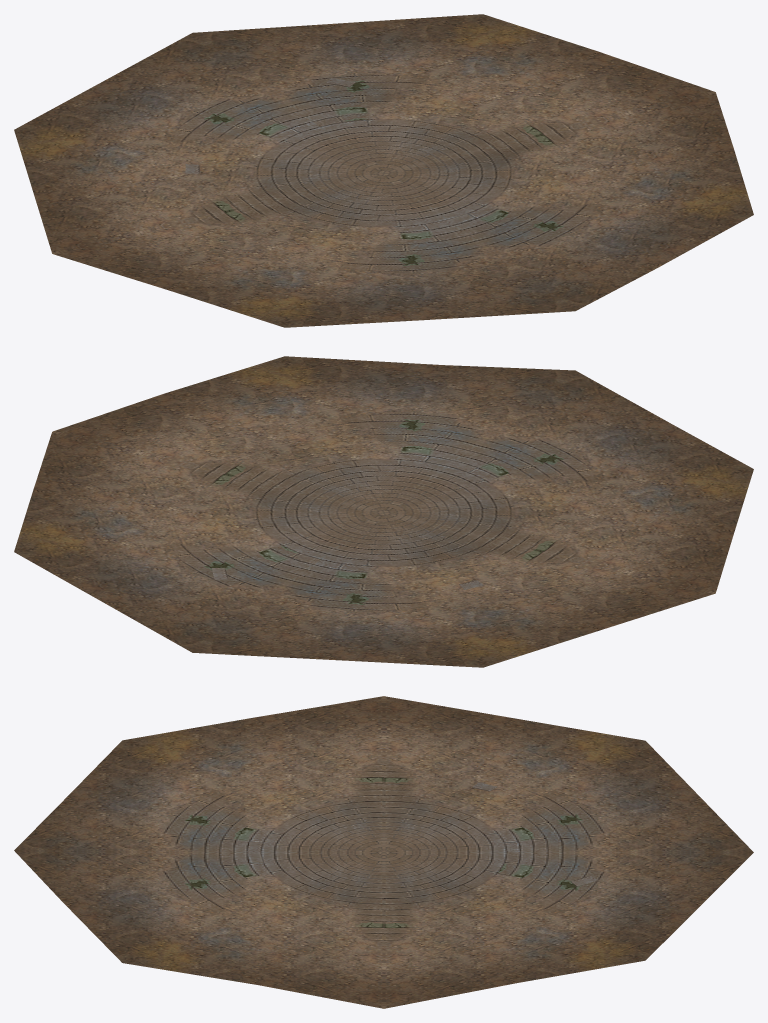
The model's file is GodWar_ShanDiYuanTai_001.FBX.
3 views of the same model, one above another, from view 1: azimuth 30°, elevation 25°; view 2: azimuth 150°, elevation 25°; view 3: azimuth 270°, elevation 25° (orthographic). The views are drawn at different scales.
Parts seen in each view (by area): view 1: GodWar_ShanDiYuanTai_001; view 2: GodWar_ShanDiYuanTai_001; view 3: GodWar_ShanDiYuanTai_001.
Part boxes in pixels (x1=…): GodWar_ShanDiYuanTai_001: x1=14, y1=14, x2=753, y2=327; GodWar_ShanDiYuanTai_001: x1=14, y1=356, x2=753, y2=667; GodWar_ShanDiYuanTai_001: x1=14, y1=696, x2=753, y2=1008.
Bounding box in the file's own units: 5364 × 23.2 × 5364.
